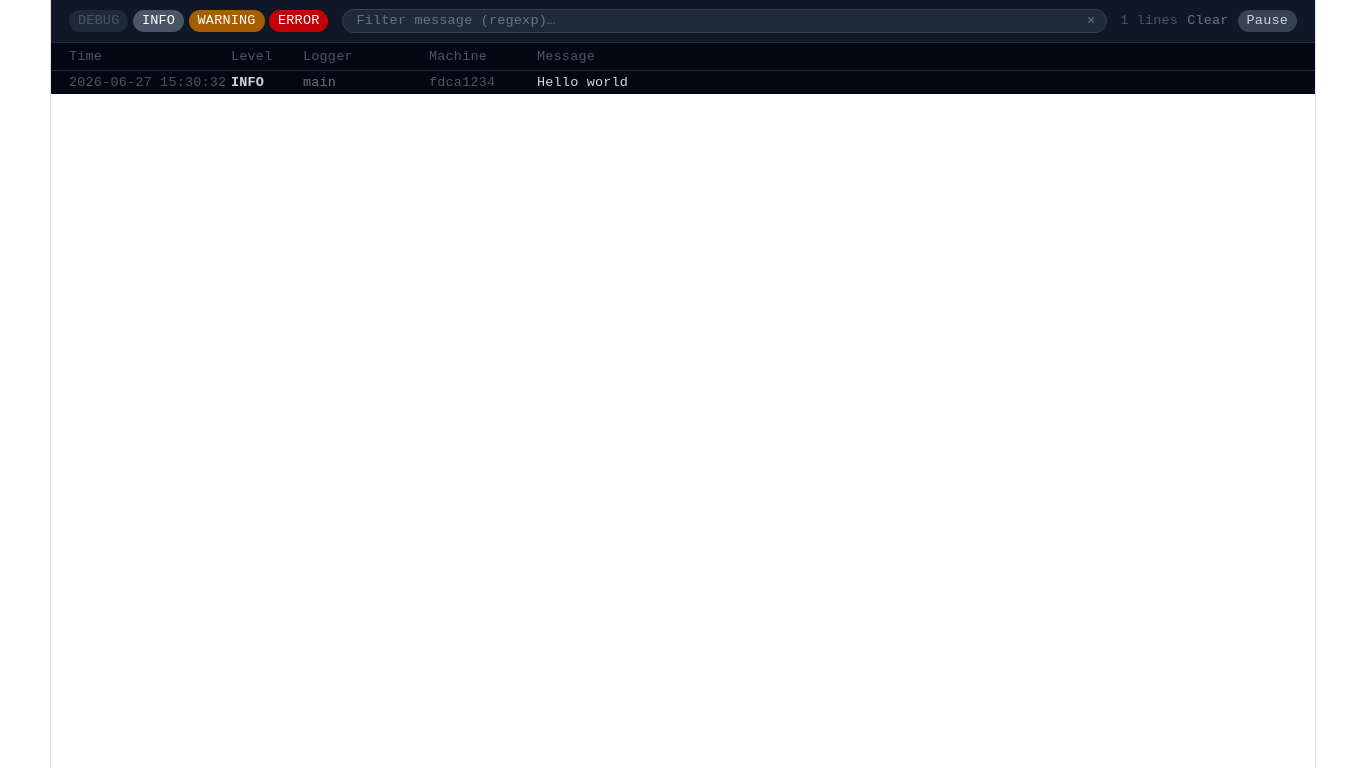
Test: LogViewer › hides INFO lines when INFO toggle is off
The width and height of the screenshot is (1366, 768).
Check: the text "Hello world" is shown, box x1=537 y1=75 x2=628 y2=90
Click the button "INFO" at (158, 21), box x1=133 y1=10 x2=184 y2=32
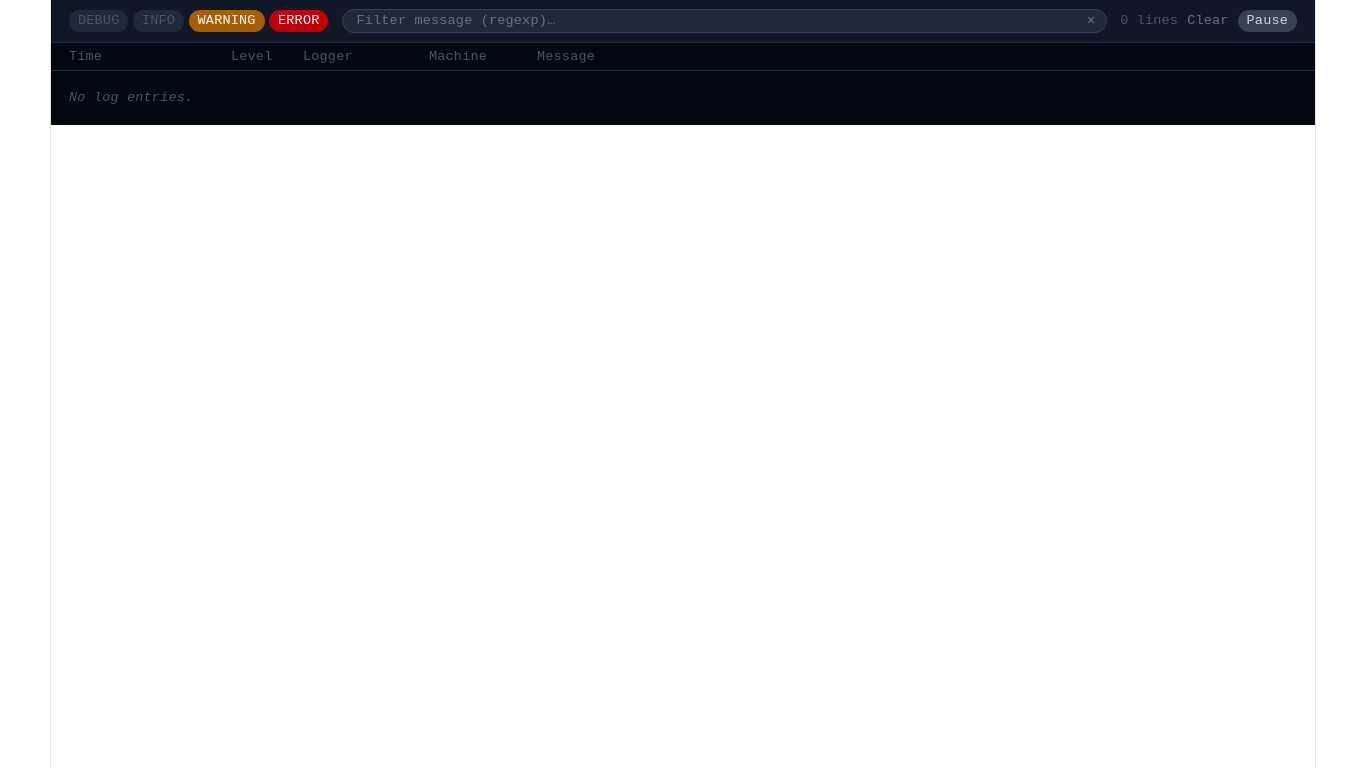
Check: the text "Hello world" is gone
